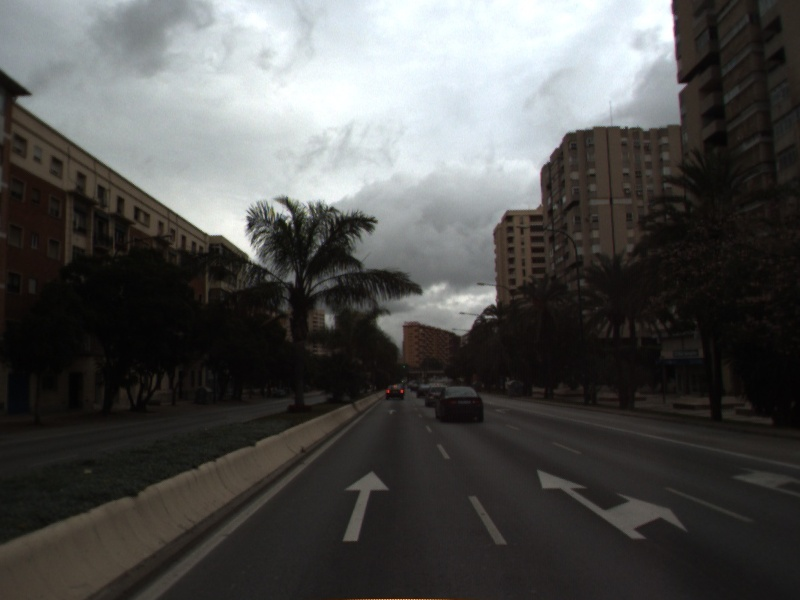RIGHT: (729, 464, 800, 498)
STRAIGHT: (339, 468, 392, 543)
STRAIGHT_RIGHT: (534, 467, 691, 541)
